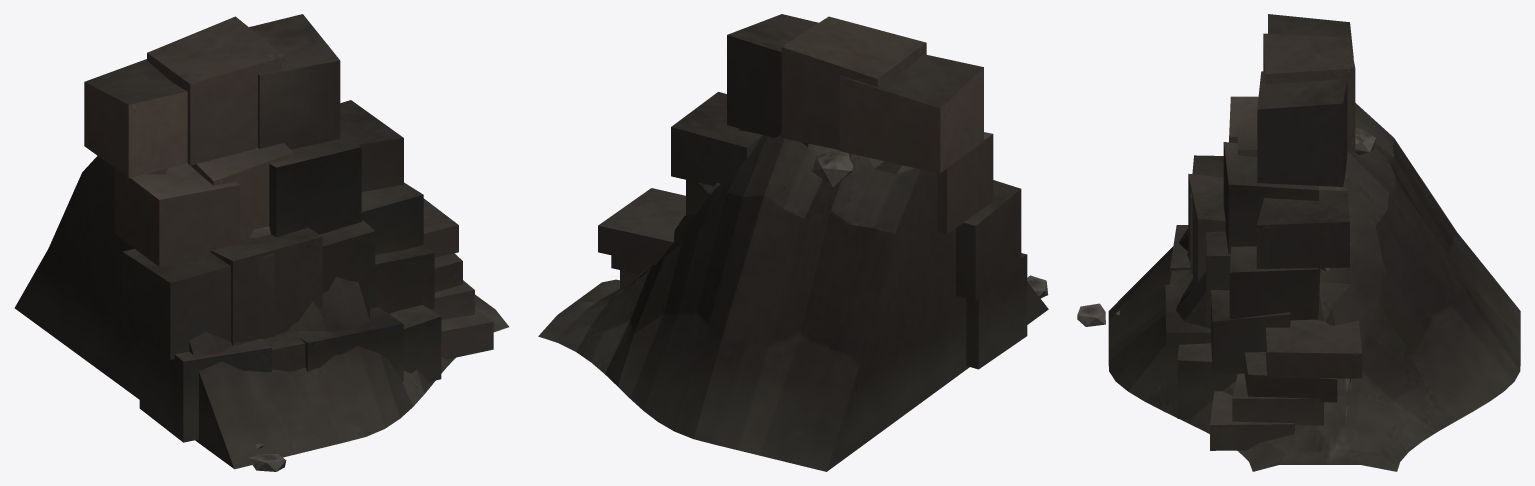
File: cliff-vulcanus-exit.glb
The picture shows the model from 3 angles, left to right: view 1: azimuth 30°, elevation 25°; view 2: azimuth 150°, elevation 25°; view 3: azimuth 270°, elevation 25°; orthographic projection. The views are drawn at different scales.
Parts seen in each view (by area): view 1: cliff-vulcanus-exit; view 2: cliff-vulcanus-exit; view 3: cliff-vulcanus-exit.
Boxes of the visible parts, bbox=[...] form: cliff-vulcanus-exit: bbox=[14, 14, 508, 471]; cliff-vulcanus-exit: bbox=[538, 14, 1048, 471]; cliff-vulcanus-exit: bbox=[1077, 14, 1520, 471].
Bounding box in the file's own units: 3.18 × 2.64 × 3.5.
2 materials, 2 textured.
